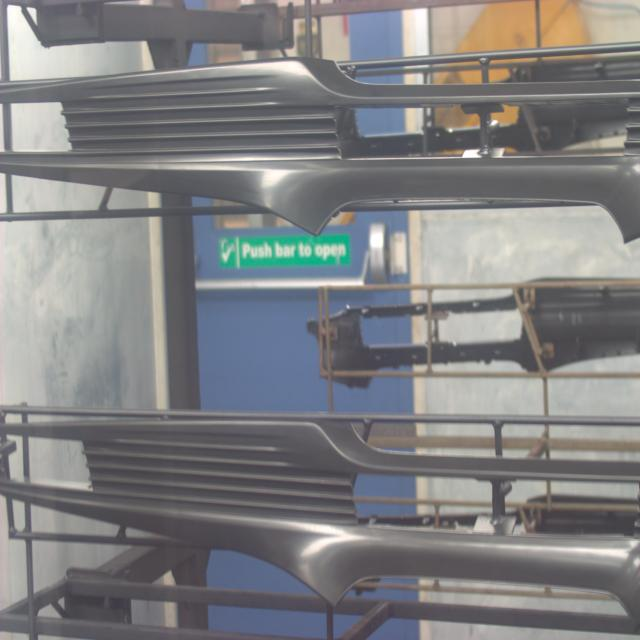Non_primered: (2, 417, 640, 610), (4, 57, 640, 235)
